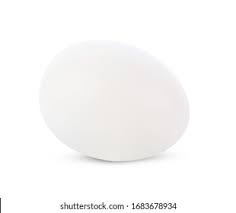eggs: (21, 33, 196, 163)
